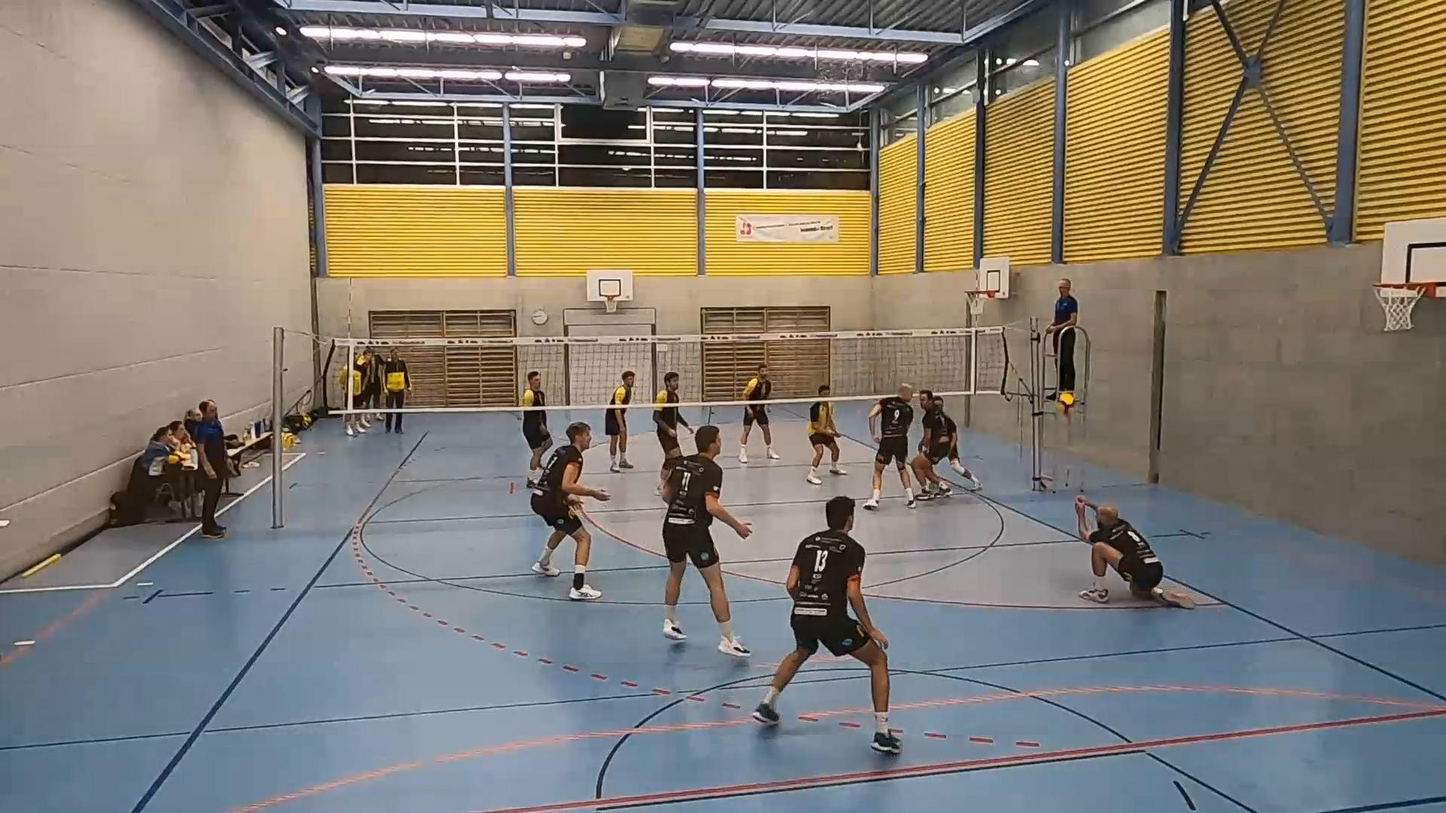difesa: (1071, 493, 1194, 614), (1057, 389, 1077, 411)
